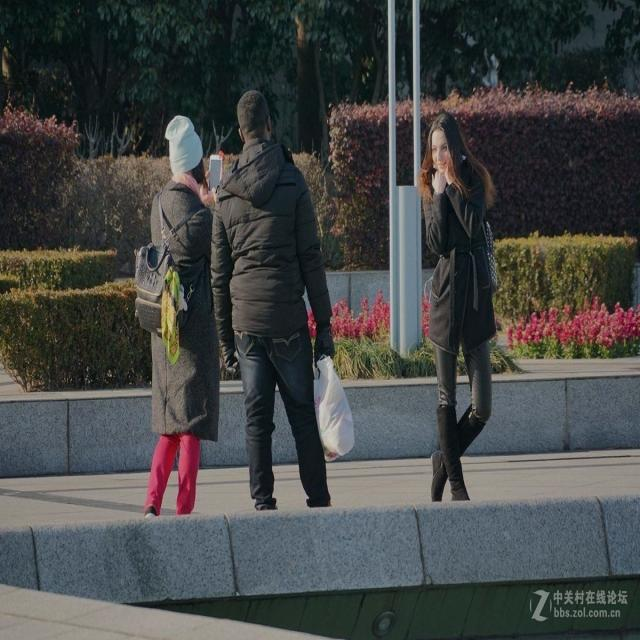non-fight: (216, 88, 342, 512), (138, 109, 219, 519), (416, 107, 498, 506)
